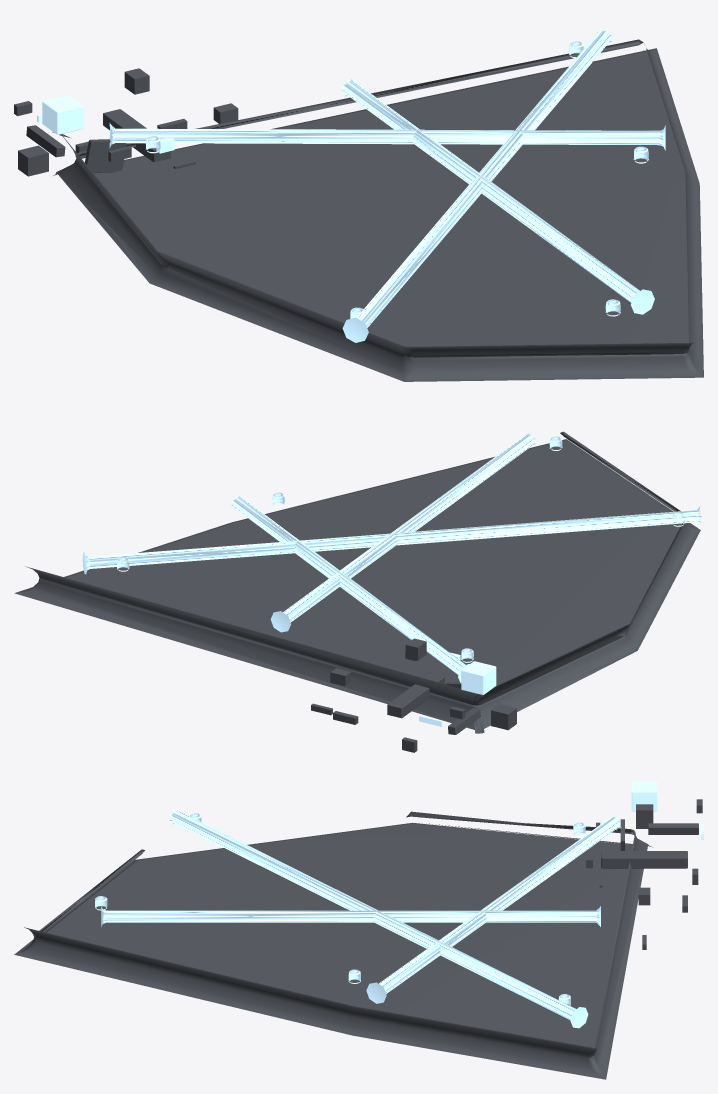
Rendered from _fin_ion_blade_elite_export.glb.
3 renders of one model, top to bottom at view 1: azimuth 30°, elevation 25°; view 2: azimuth 150°, elevation 25°; view 3: azimuth 270°, elevation 25°, orthographic. The views are drawn at different scales.
Parts seen in each view (by area): view 1: Crystal_Plane, fin_crystalline_Material_Accent_Merged, DET_field_coil_mount, DET_anomaly_residue, fin_crystalline_Material_Accent_Merged.001, DET_ion_blade_edge, DET_mount_collar, DET_crystal_vein_fork; view 2: Crystal_Plane, fin_crystalline_Material_Accent_Merged, DET_ion_blade_edge, DET_field_coil_mount, fin_crystalline_Material_Accent_Merged.001, DET_mount_collar; view 3: Crystal_Plane, fin_crystalline_Material_Accent_Merged, DET_ion_blade_edge, DET_field_coil_mount, fin_crystalline_Material_Accent_Merged.001, DET_crystal_vein_fork.
Part boxes in pixels (x1,y1,x2,y2): Crystal_Plane: (52, 39, 703, 381); fin_crystalline_Material_Accent_Merged: (109, 29, 665, 342); DET_field_coil_mount: (42, 95, 83, 134); DET_anomaly_residue: (85, 139, 126, 172); fin_crystalline_Material_Accent_Merged.001: (146, 41, 648, 318); DET_ion_blade_edge: (103, 109, 170, 162); DET_mount_collar: (18, 145, 48, 176); DET_crystal_vein_fork: (26, 125, 65, 157); Crystal_Plane: (14, 431, 700, 733); fin_crystalline_Material_Accent_Merged: (82, 432, 701, 682); DET_ion_blade_edge: (387, 673, 444, 718); DET_field_coil_mount: (461, 661, 496, 694); fin_crystalline_Material_Accent_Merged.001: (117, 436, 684, 662); DET_mount_collar: (491, 704, 516, 730); Crystal_Plane: (14, 811, 652, 1079); fin_crystalline_Material_Accent_Merged: (101, 808, 621, 1028); DET_ion_blade_edge: (601, 851, 687, 868); DET_field_coil_mount: (631, 781, 657, 811); fin_crystalline_Material_Accent_Merged.001: (95, 813, 585, 1005); DET_crystal_vein_fork: (648, 823, 698, 834).
Bounding box in the file's own units: 4.2 × 0.7 × 4.76.
